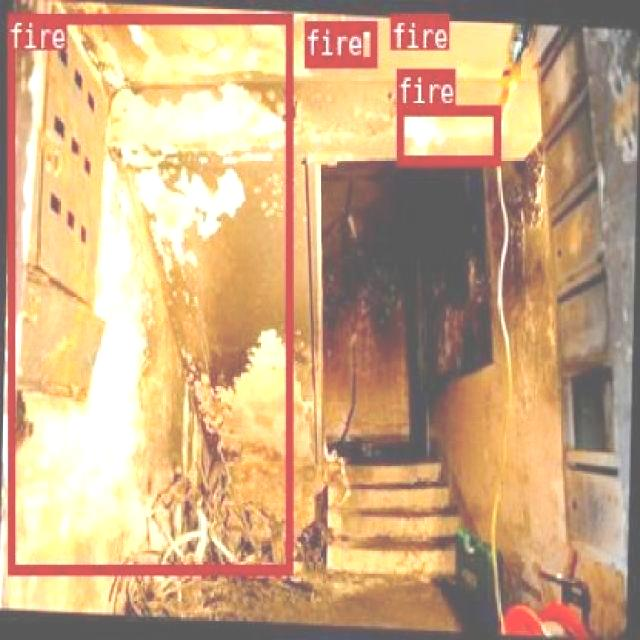fire: (8, 13, 290, 573), (396, 103, 499, 163), (302, 20, 376, 66), (389, 13, 423, 35)
